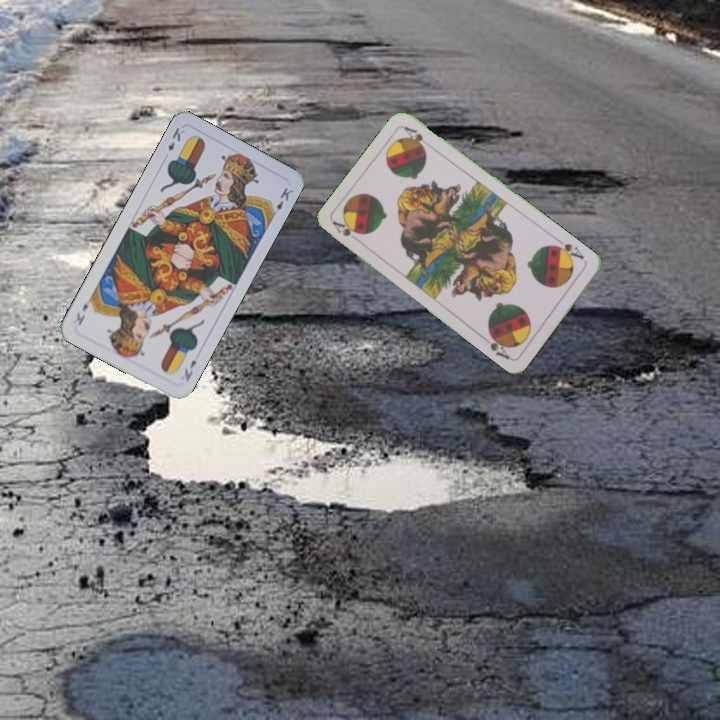EK: (164, 123, 187, 154), (180, 356, 199, 384)
SA: (549, 235, 587, 264), (329, 217, 364, 239)
